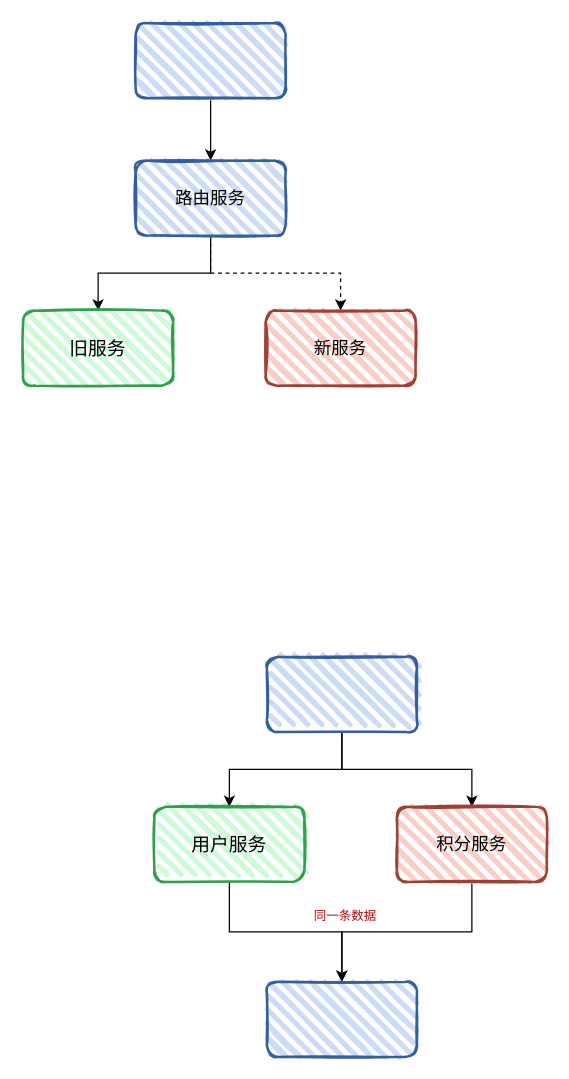
This 569x1079 diagram has some shape labels left out. Each missing label, with the box of its shape:
DB: (265, 980, 418, 1058)
MQ: (265, 655, 418, 732)
网关: (134, 21, 286, 99)
